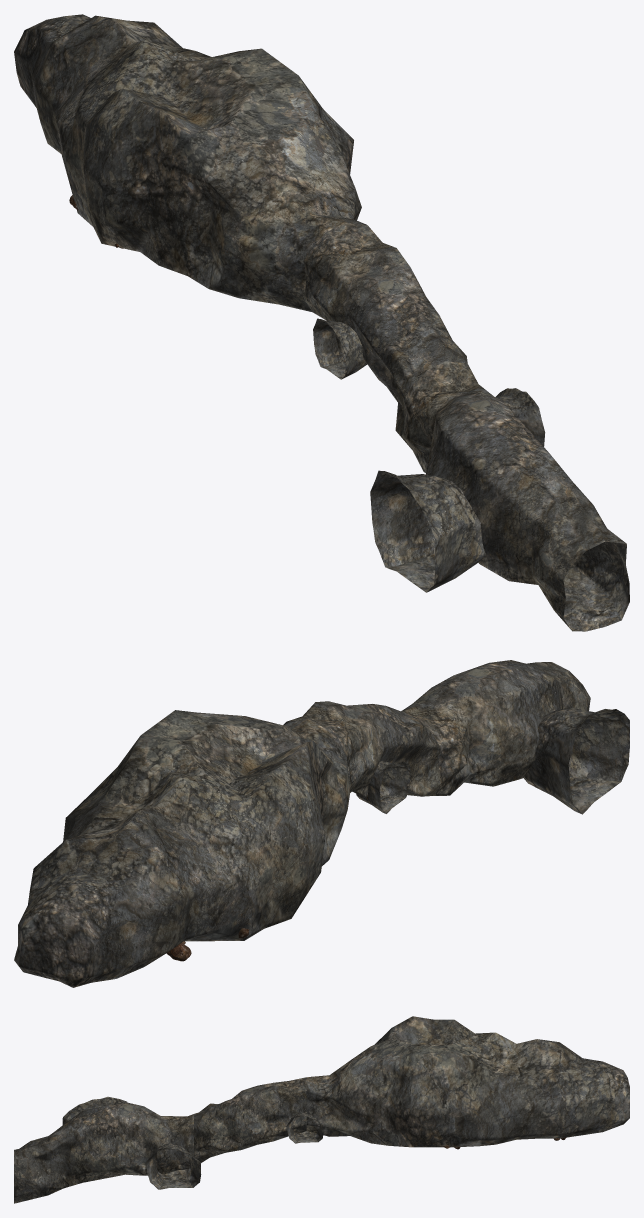
File: Cave.gltf
3 renders of one model, top to bottom at view 1: azimuth 30°, elevation 25°; view 2: azimuth 150°, elevation 25°; view 3: azimuth 270°, elevation 25°, orthographic. The views are drawn at different scales.
Parts seen in each view (by area): view 1: Shape030_mine_0.001, Shape030_mine_0.006, Shape030_mine_0.004, Shape030_mine_0.005; view 2: Shape030_mine_0.001, Shape030_mine_0.006, Shape030_mine_0.004; view 3: Shape030_mine_0.001, Shape030_mine_0.005, Shape030_mine_0.003, Shape030_mine_0.006.
Part boxes in pixels (<box>): Shape030_mine_0.001: <box>14,14,629,631</box>; Shape030_mine_0.006: <box>370,470,485,592</box>; Shape030_mine_0.004: <box>313,318,367,379</box>; Shape030_mine_0.005: <box>495,388,545,446</box>; Shape030_mine_0.001: <box>14,660,590,987</box>; Shape030_mine_0.006: <box>524,707,629,814</box>; Shape030_mine_0.004: <box>356,760,410,813</box>; Shape030_mine_0.001: <box>14,1016,629,1203</box>; Shape030_mine_0.005: <box>146,1143,201,1189</box>; Shape030_mine_0.003: <box>286,1113,323,1143</box>; Shape030_mine_0.006: <box>62,1096,127,1124</box>.
Size of the model in its own units: 114 by 129 by 453.
Materials: 16 (16 with a texture image).
